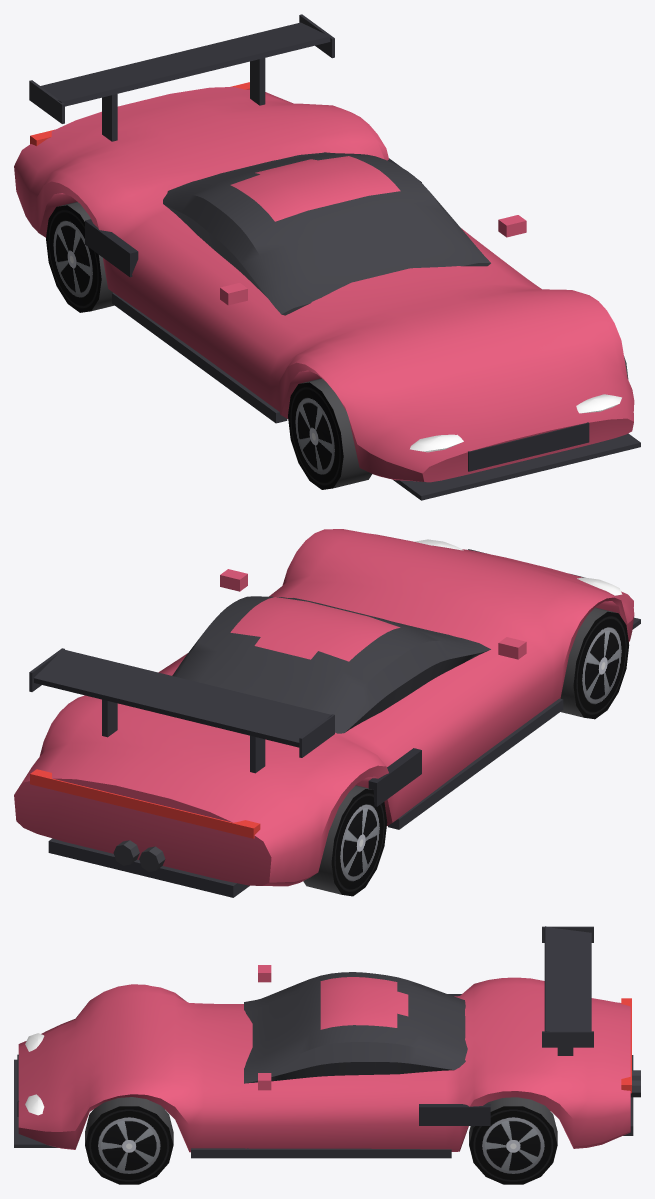
The model's file is car_bolt.glb.
The picture shows the model from 3 angles, top to bottom: view 1: azimuth 30°, elevation 25°; view 2: azimuth 150°, elevation 25°; view 3: azimuth 270°, elevation 25°; orthographic projection. The views are drawn at different scales.
Parts seen in each view (by area): view 1: Car; view 2: Car; view 3: Car.
Boxes of the visible parts, x1,y1,x2,y2 form: Car: (14, 14, 640, 500); Car: (14, 529, 640, 897); Car: (14, 926, 640, 1184).
Bounding box in the file's own units: 2.1 × 1.28 × 4.82.
Materials: 3 (1 with a texture image).
